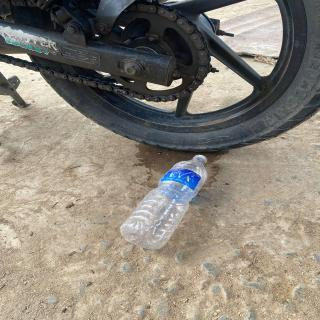Plastic-bottle: (118, 152, 212, 252)
